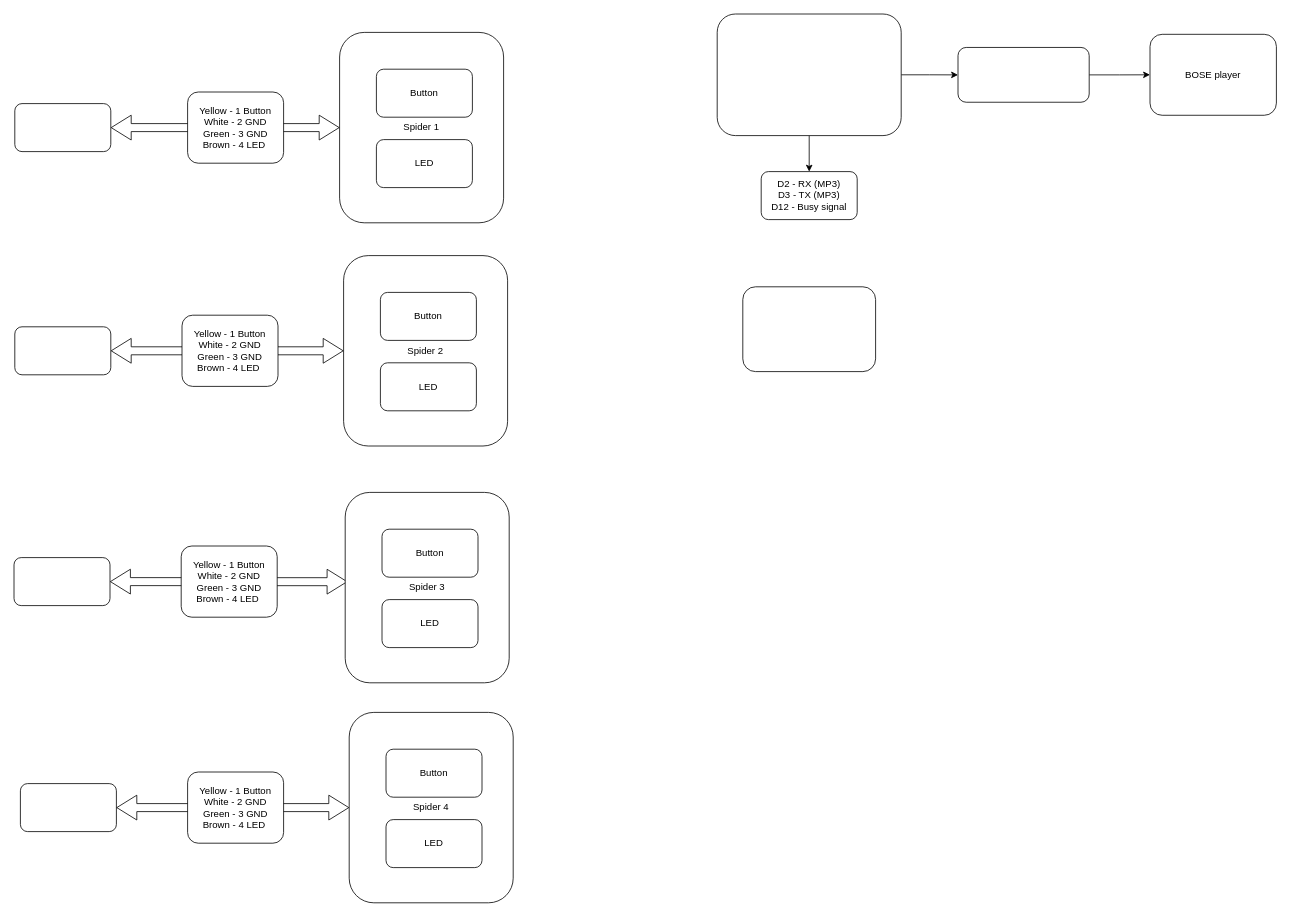
The diagram is 1290 pixels wide and 917 high, and some of its shapes have lost their labels. The shapes that lost their labels are listed below. From the top down, each one's centre as x and y in pixels, then its label:
the point at 808,74: MP3 (DFPlayer)
the point at 1023,74: 3.5mm tele - RCA (R/L)
the point at 62,127: D4 - Button D8 - LED
the point at 809,329: Candy light D13 - Brown White - GND Green - +5V
the point at 62,350: D5 - Button D9 - LED
the point at 61,581: D6 - Button D10 - LED
the point at 68,807: D7 - Button D11 - LED
